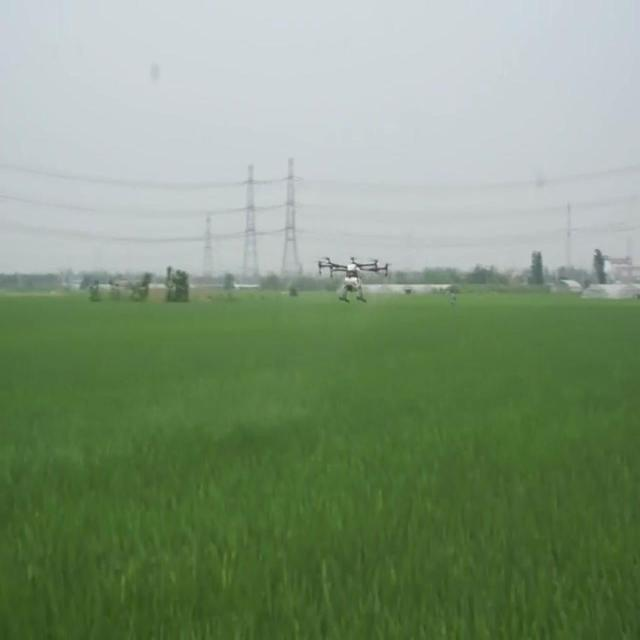drone: (315, 252, 391, 308)
